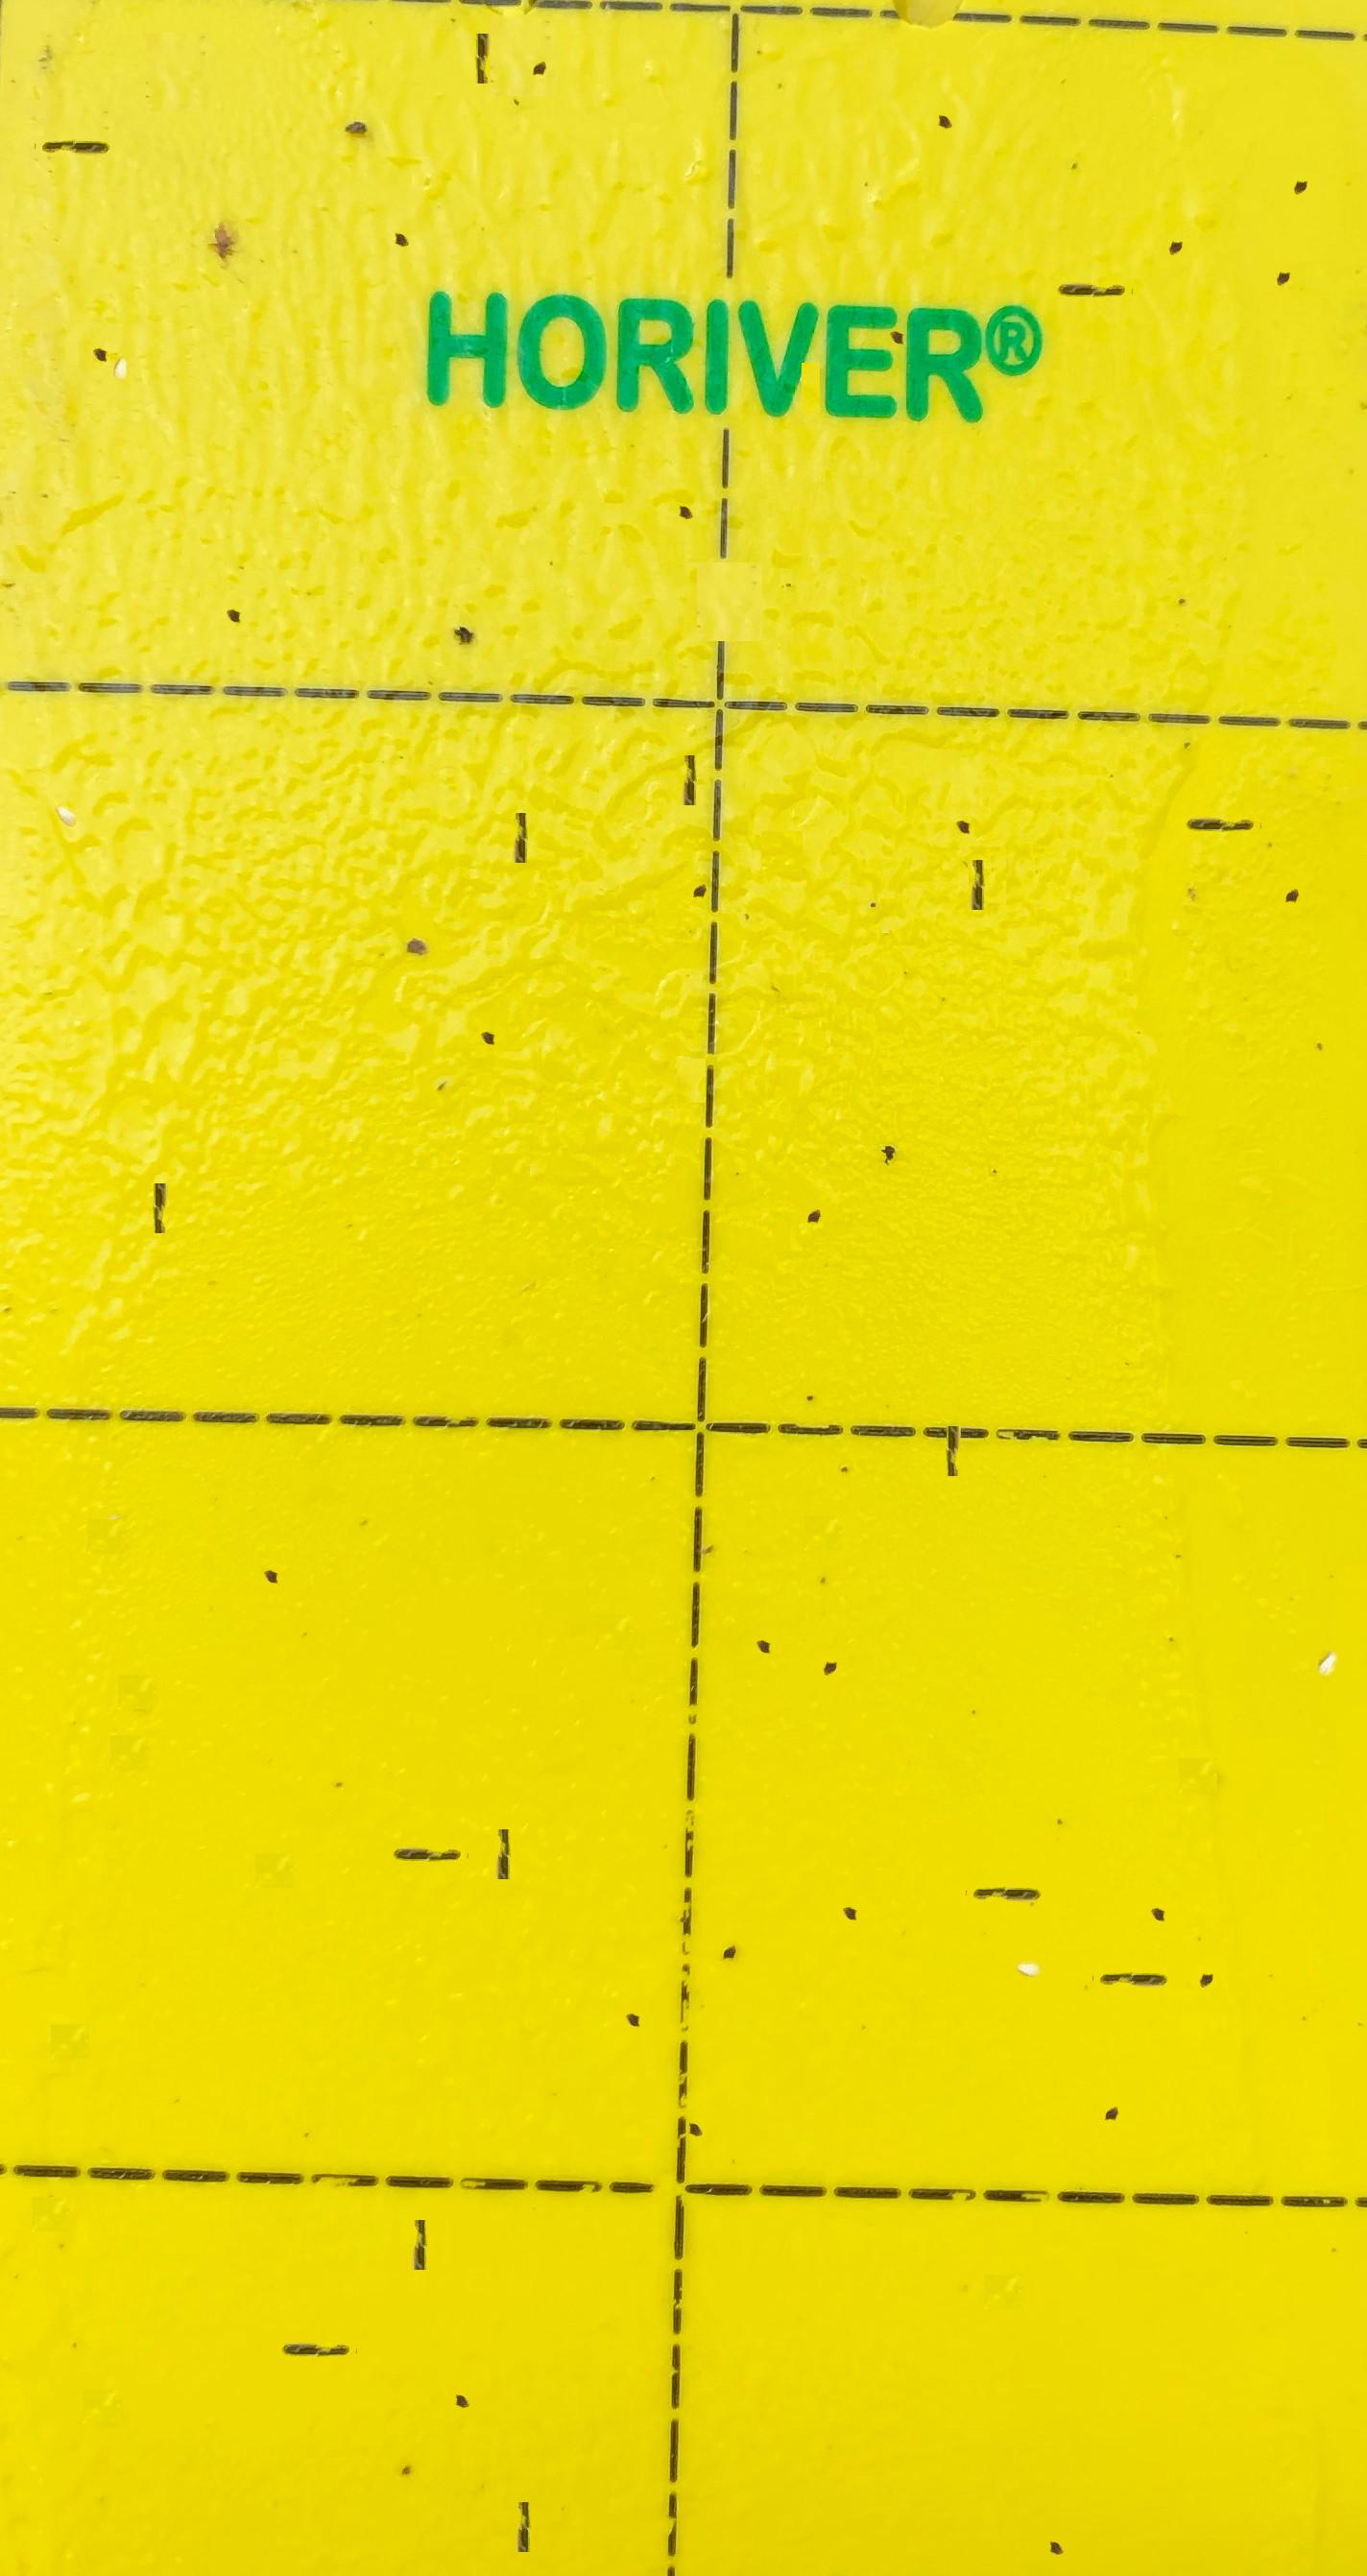white_fly: (46, 751, 89, 794), (1309, 1600, 1350, 1644), (1009, 1915, 1050, 1952), (99, 313, 140, 351)
